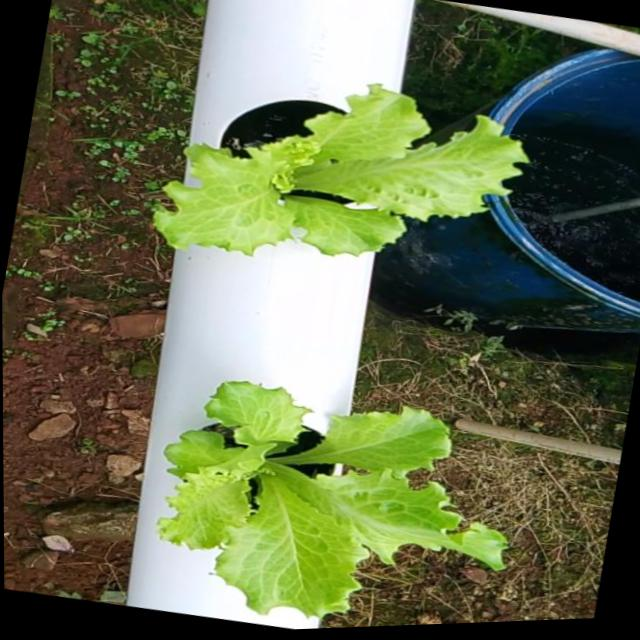Baby: (157, 377, 510, 614), (155, 75, 531, 248)
